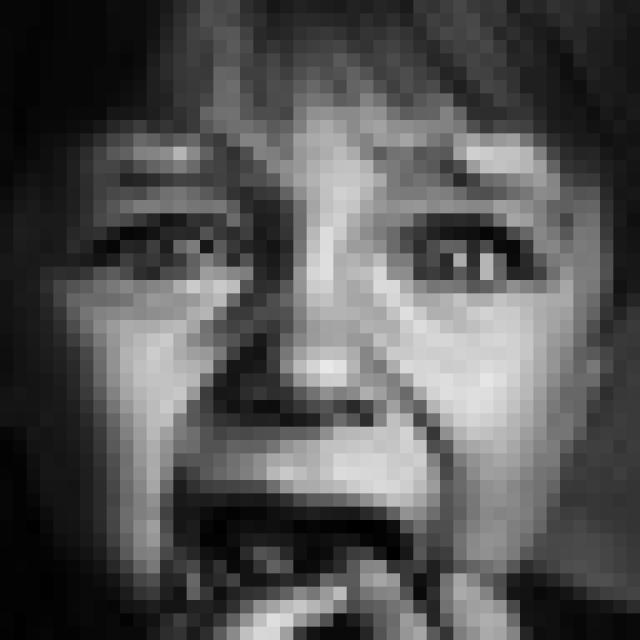fear: (65, 121, 576, 623)
